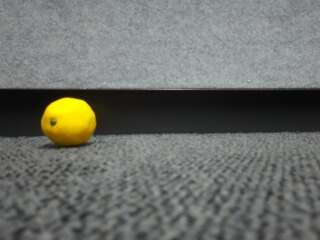lemon: (41, 99, 95, 148)
